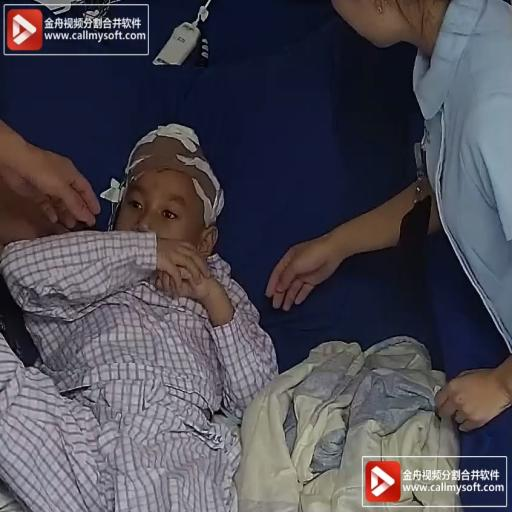Seizure: (109, 156, 217, 243)
